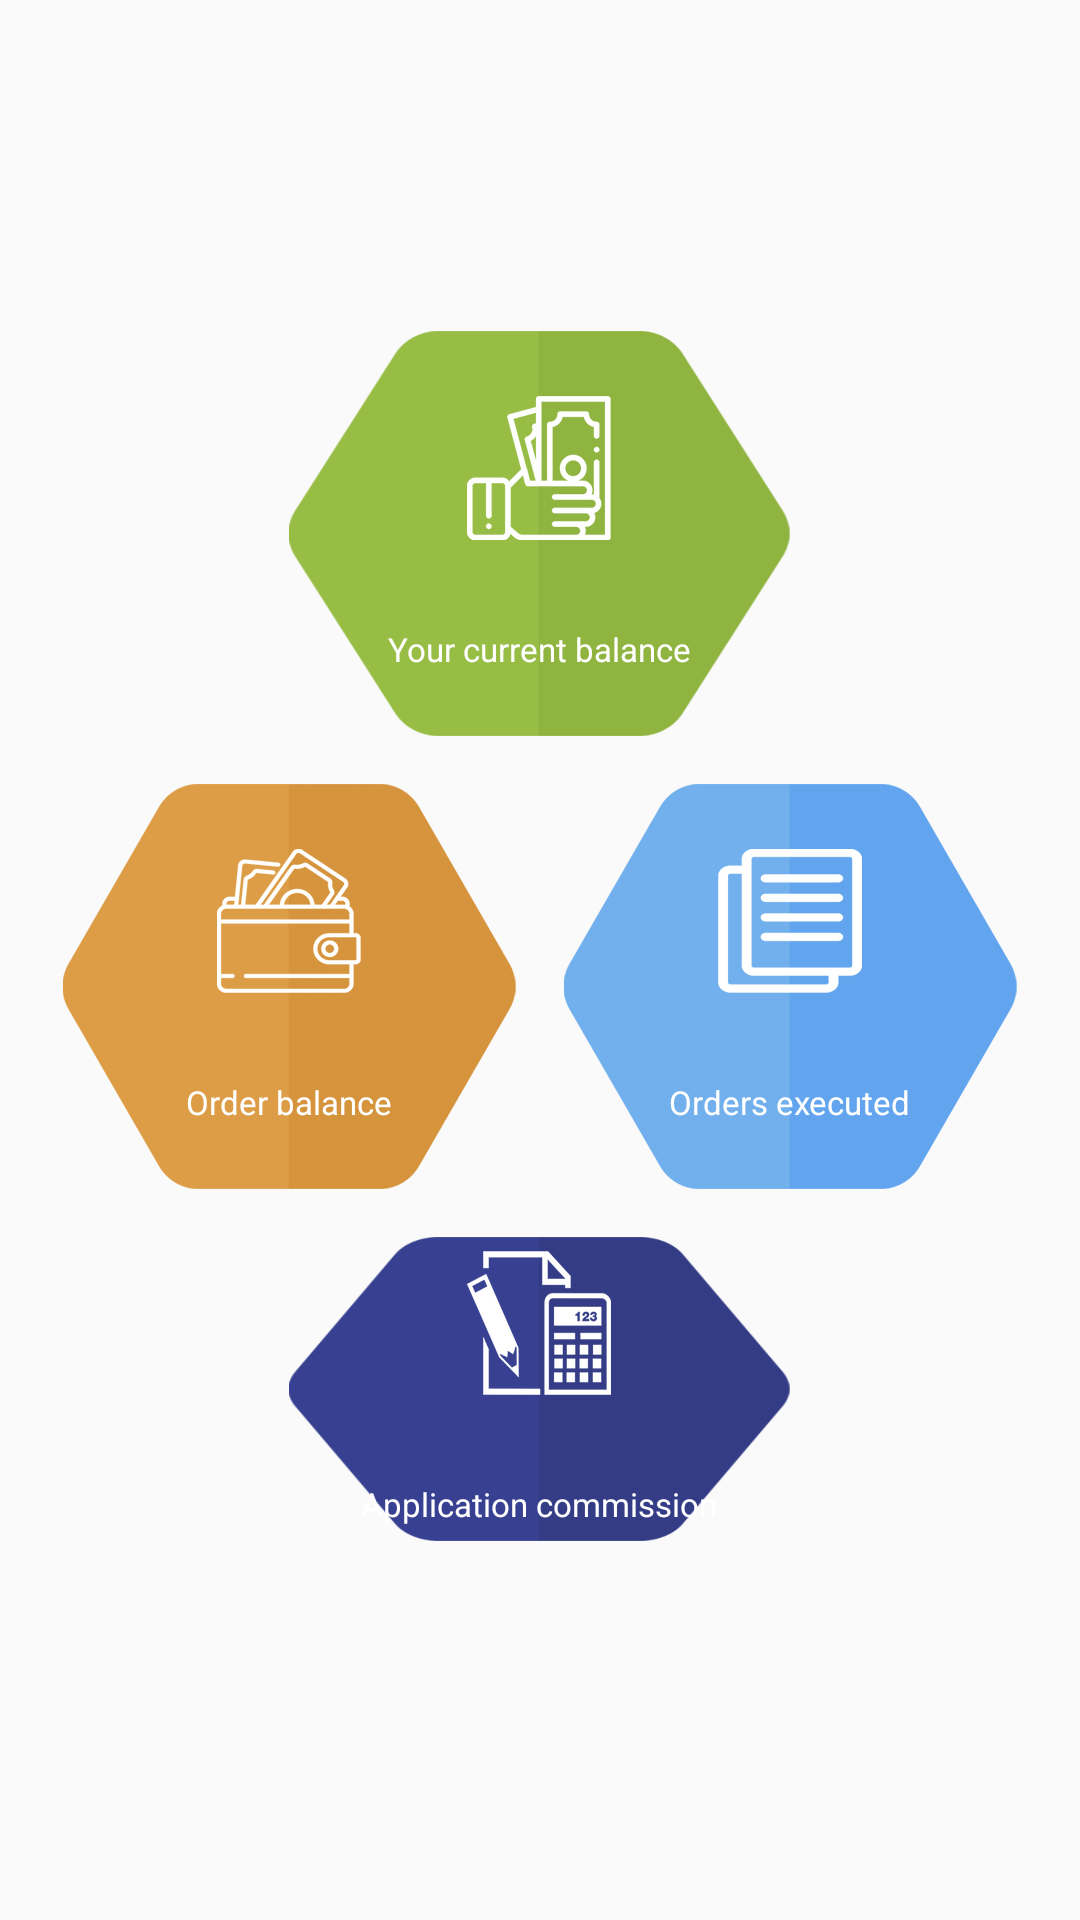

Point at icon controls on the screen. Image size 1080×1920, points as (x=x, y=y).
calcul: (x=539, y=1323)
list balance: (x=790, y=921)
money: (x=539, y=468)
wallet: (x=289, y=921)
